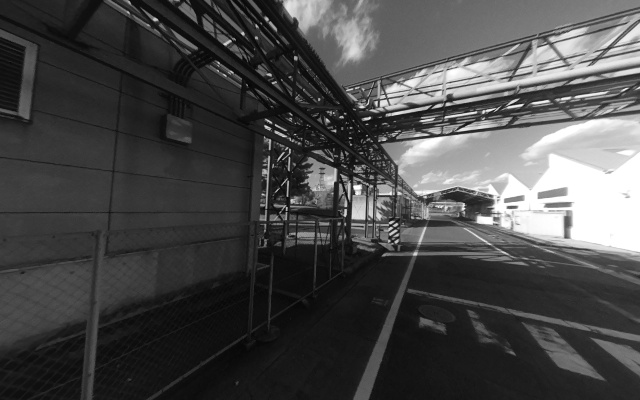bollard: (388, 215, 401, 244)
